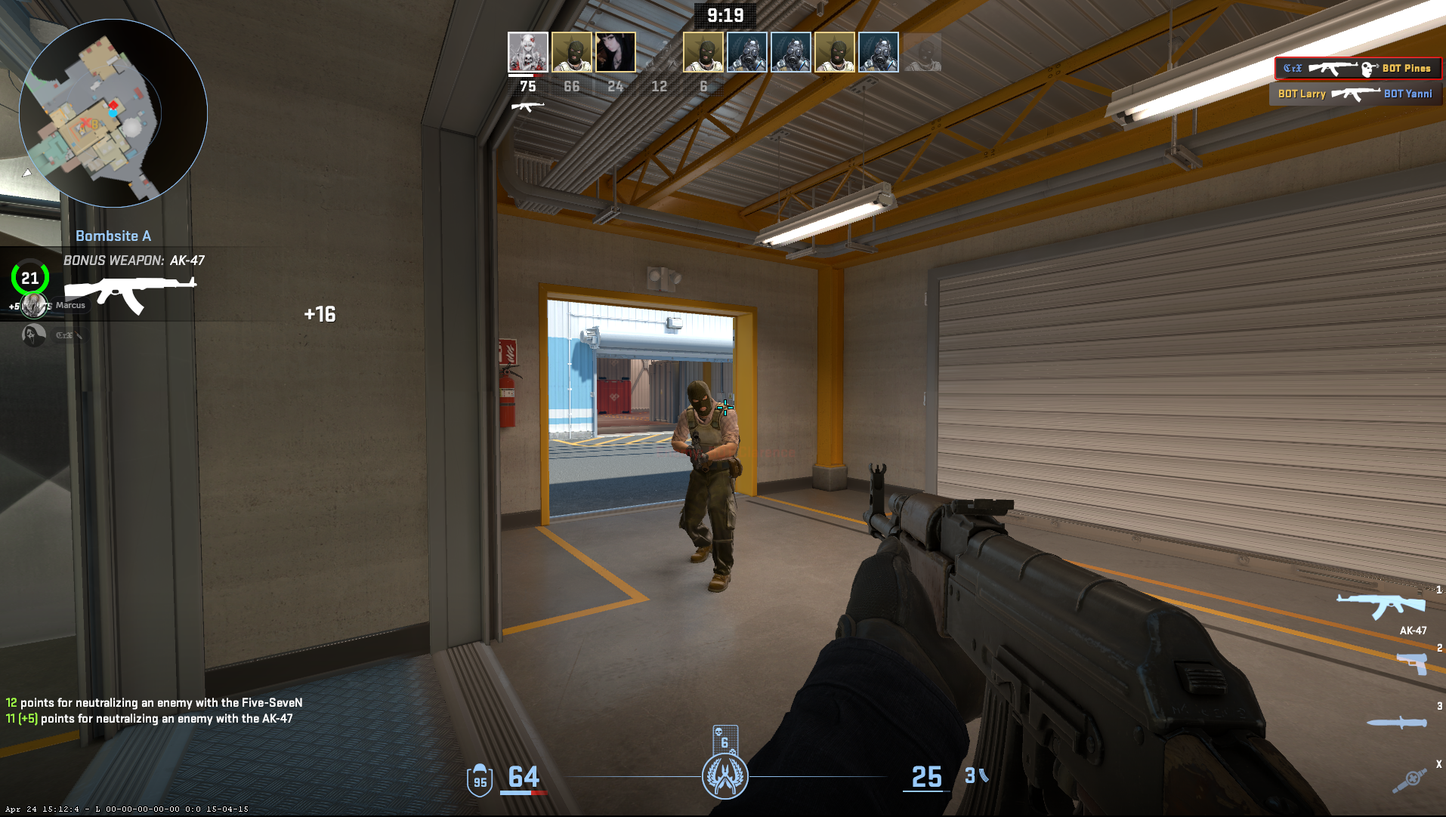T: (672, 380, 744, 592)
